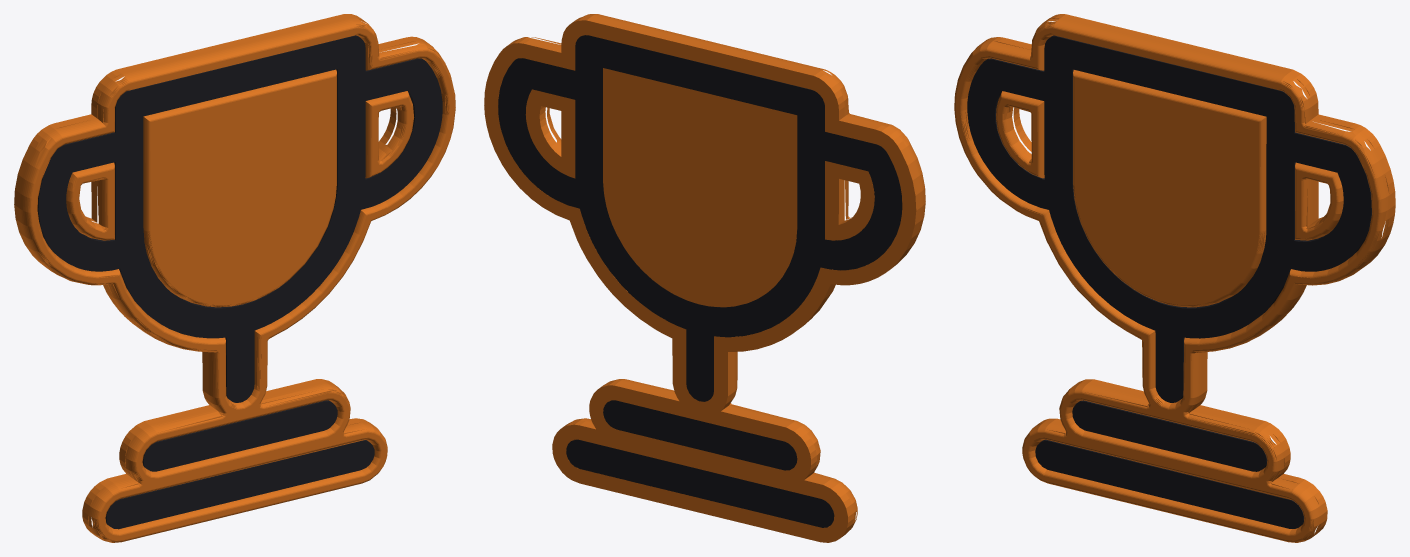
File: records_t1.glb
3 views of the same model, side by side, from view 1: azimuth 30°, elevation 25°; view 2: azimuth 150°, elevation 25°; view 3: azimuth 330°, elevation 25° (orthographic).
Visible parts, largest first — view 1: mark, mark_channel; view 2: mark, mark_channel; view 3: mark, mark_channel.
Boxes of the visible parts, x1,y1,x2,y2 form: mark: (14,14,455,542); mark_channel: (37,35,442,529); mark: (484,14,925,542); mark_channel: (498,35,902,527); mark: (954,14,1395,542); mark_channel: (967,35,1371,528).
Size of the model in its own units: 0.4669 by 0.4799 by 0.024.
